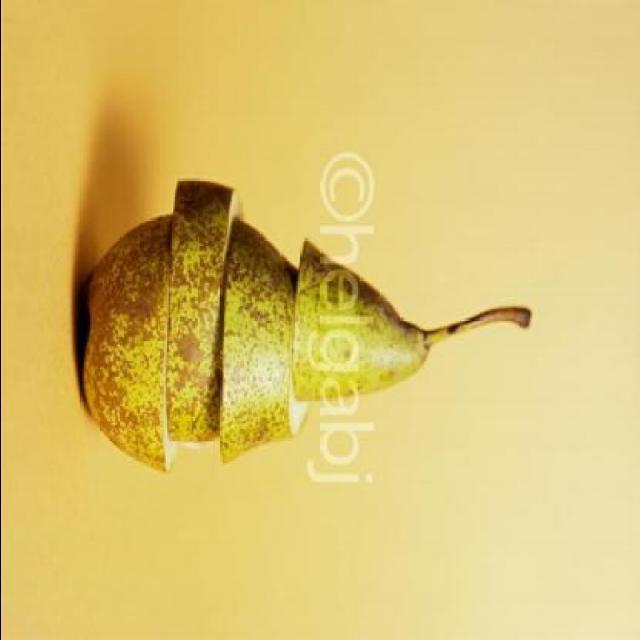Pear: (82, 174, 536, 470)
